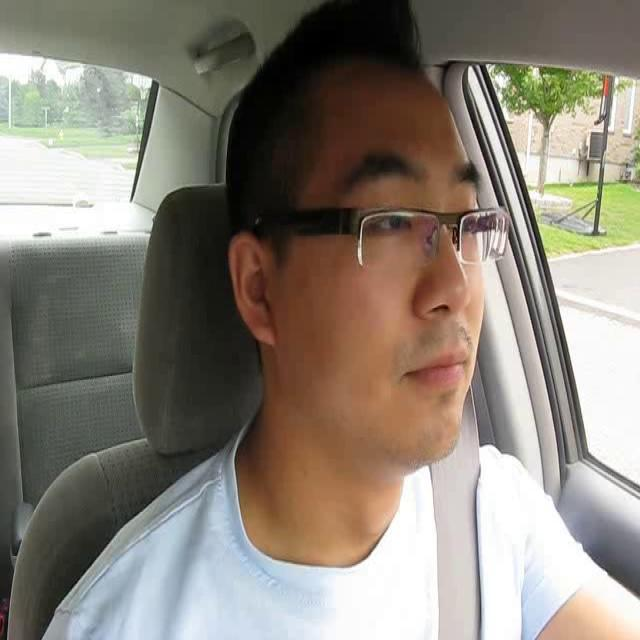close: (402, 347, 472, 392)
